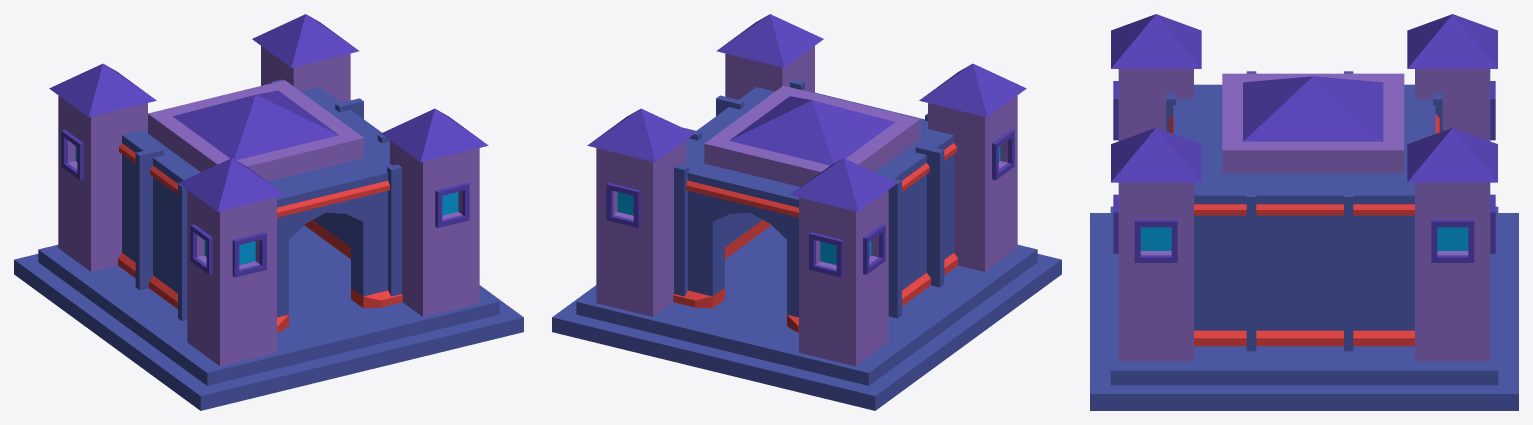
The model's file is Castle.fbx.
The picture shows the model from 3 angles, left to right: view 1: azimuth 30°, elevation 25°; view 2: azimuth 150°, elevation 25°; view 3: azimuth 270°, elevation 25°; orthographic projection. The views are drawn at different scales.
Parts seen in each view (by area): view 1: Castle; view 2: Castle; view 3: Castle.
Boxes of the visible parts, bbox=[...] form: Castle: bbox=[14, 14, 523, 410]; Castle: bbox=[552, 14, 1061, 410]; Castle: bbox=[1090, 14, 1518, 410].
Bounding box in the file's own units: 32.72 × 21.01 × 32.72.
